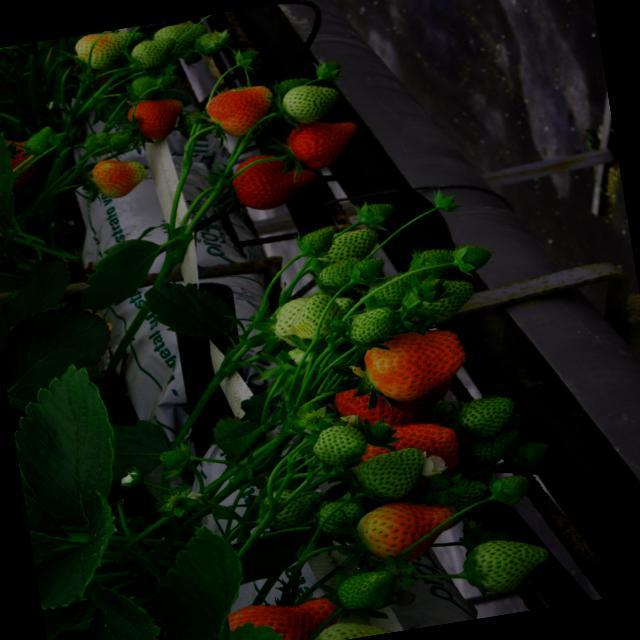ripe: (334, 359, 460, 438), (361, 324, 473, 408), (356, 491, 466, 568), (358, 410, 460, 486), (225, 143, 323, 214), (213, 595, 320, 640), (283, 113, 358, 173), (205, 81, 278, 138), (126, 96, 190, 142)
